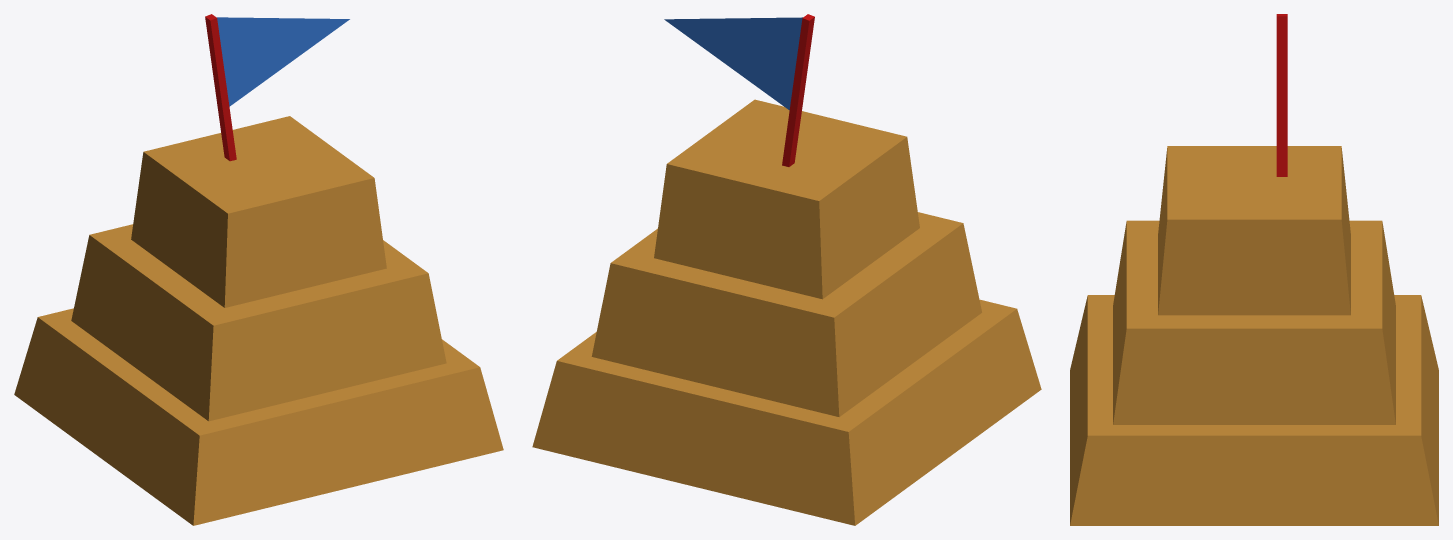
File: 3D_SandCastle.FBX
3 views of the same model, side by side, from view 1: azimuth 30°, elevation 25°; view 2: azimuth 150°, elevation 25°; view 3: azimuth 270°, elevation 25° (orthographic). The views are drawn at different scales.
Parts seen in each view (by area): view 1: 3D_SandCastle; view 2: 3D_SandCastle; view 3: 3D_SandCastle.
Boxes of the visible parts, x1,y1,x2,y2 form: 3D_SandCastle: [14, 14, 503, 525]; 3D_SandCastle: [532, 14, 1041, 525]; 3D_SandCastle: [1070, 14, 1438, 525].
Size of the model in its own units: 133 by 165 by 133.
